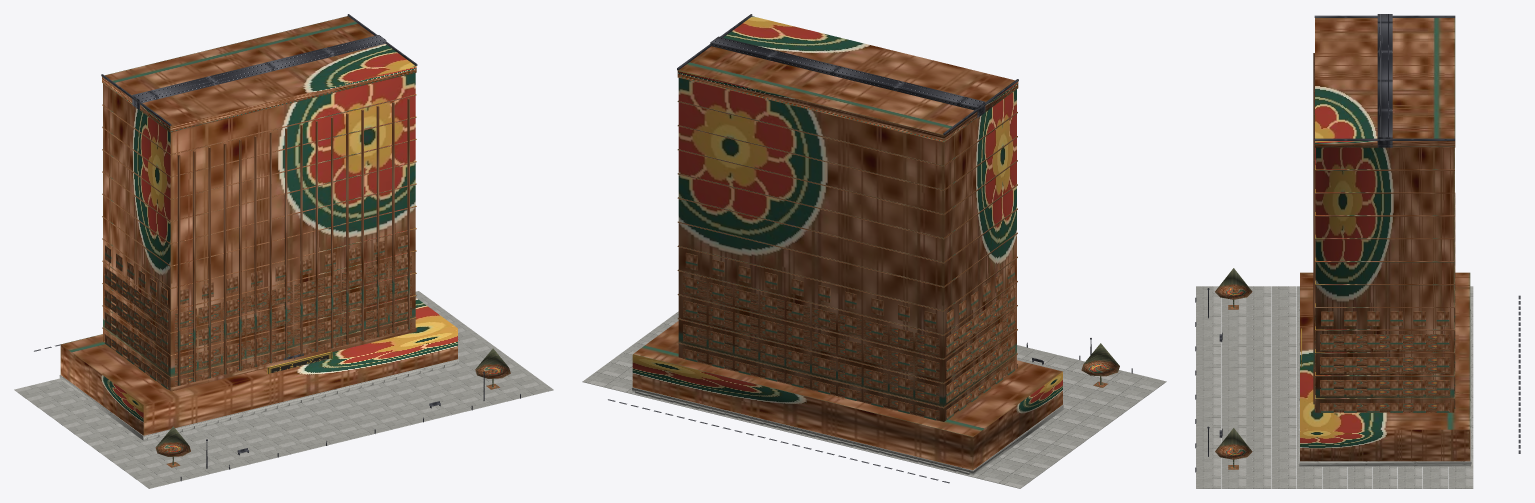
The picture shows the model from 3 angles, left to right: view 1: azimuth 30°, elevation 25°; view 2: azimuth 150°, elevation 25°; view 3: azimuth 270°, elevation 25°; orthographic projection. The views are drawn at different scales.
Parts seen in each view (by area): view 1: 11140_02_04533_015_02__mass_body_facade, 11140_02_04533_015_01__plinth_ground_base, 11140_02_04533_015_05__window_sash_glass, 11140_02_04533_015_03__roof_metal_ornament, 11140_02_04533_015_06__landscape_greenery; view 2: 11140_02_04533_015_02__mass_body_facade, 11140_02_04533_015_01__plinth_ground_base, 11140_02_04533_015_03__roof_metal_ornament, 11140_02_04533_015_06__landscape_greenery; view 3: 11140_02_04533_015_02__mass_body_facade, 11140_02_04533_015_01__plinth_ground_base, 11140_02_04533_015_03__roof_metal_ornament, 11140_02_04533_015_06__landscape_greenery, 11140_02_04533_015_03__roof_deck_structure.
Boxes of the visible parts, x1=… form: 11140_02_04533_015_02__mass_body_facade: x1=60, y1=16, x2=457, y2=435; 11140_02_04533_015_01__plinth_ground_base: x1=14, y1=291, x2=553, y2=488; 11140_02_04533_015_05__window_sash_glass: x1=177, y1=235, x2=408, y2=385; 11140_02_04533_015_03__roof_metal_ornament: x1=101, y1=14, x2=417, y2=125; 11140_02_04533_015_06__landscape_greenery: x1=155, y1=348, x2=510, y2=467; 11140_02_04533_015_02__mass_body_facade: x1=632, y1=16, x2=1062, y2=470; 11140_02_04533_015_01__plinth_ground_base: x1=582, y1=311, x2=1166, y2=488; 11140_02_04533_015_03__roof_metal_ornament: x1=677, y1=14, x2=1018, y2=135; 11140_02_04533_015_06__landscape_greenery: x1=1081, y1=343, x2=1119, y2=387; 11140_02_04533_015_02__mass_body_facade: x1=1300, y1=18, x2=1470, y2=461; 11140_02_04533_015_01__plinth_ground_base: x1=1196, y1=286, x2=1473, y2=488; 11140_02_04533_015_03__roof_metal_ornament: x1=1314, y1=14, x2=1455, y2=147; 11140_02_04533_015_06__landscape_greenery: x1=1215, y1=268, x2=1252, y2=469; 11140_02_04533_015_03__roof_deck_structure: x1=1518, y1=295, x2=1520, y2=453.
Bounding box in the file's own units: 75.95 × 54.6 × 51.59.
Materials: 7 (7 with a texture image).
